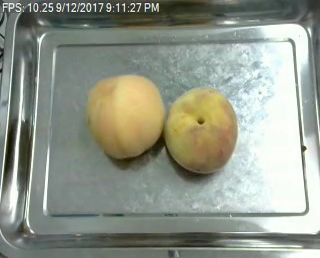Peach: (85, 74, 164, 159), (164, 86, 239, 174)
